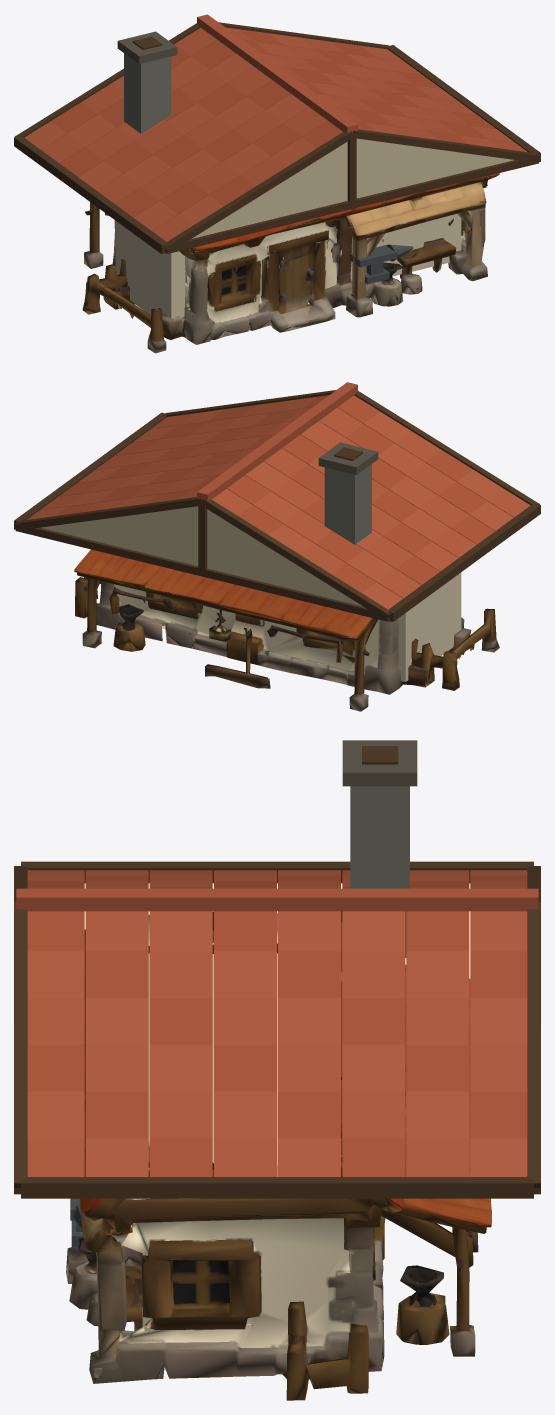
The model's file is weapon_shop.glb.
3 views of the same model, one above another, from view 1: azimuth 30°, elevation 25°; view 2: azimuth 150°, elevation 25°; view 3: azimuth 270°, elevation 25° (orthographic). The views are drawn at different scales.
Parts seen in each view (by area): view 1: weapon_shop; view 2: weapon_shop; view 3: weapon_shop.
Part boxes in pixels (x1,y1,x2,y2): weapon_shop: [14, 14, 540, 353]; weapon_shop: [14, 382, 540, 711]; weapon_shop: [14, 740, 540, 1400].
Size of the model in its own units: 8.16 by 4.91 by 5.65.
11 materials, 1 textured.
